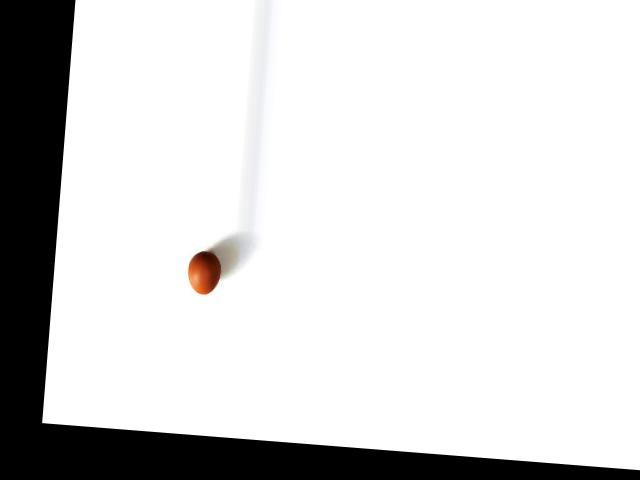egg: (186, 249, 221, 295)
